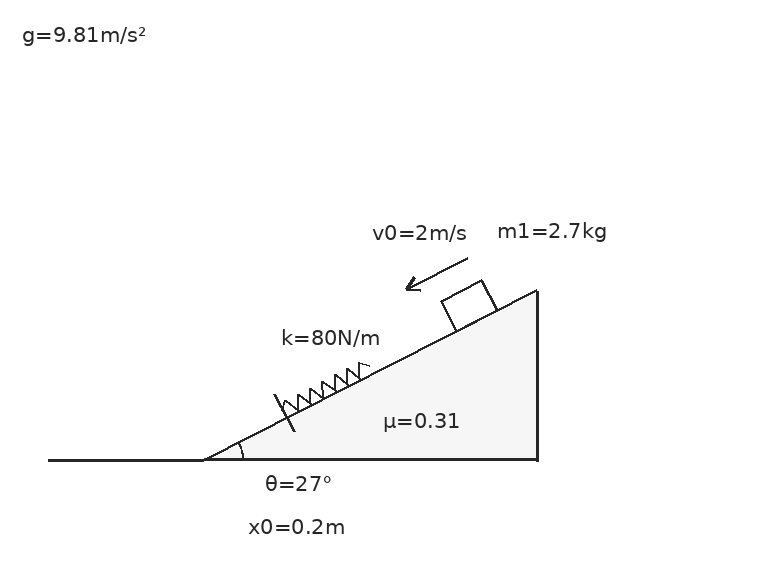block: (438, 278, 499, 333)
ramp: (201, 288, 538, 462)
spring: (280, 360, 371, 412)
